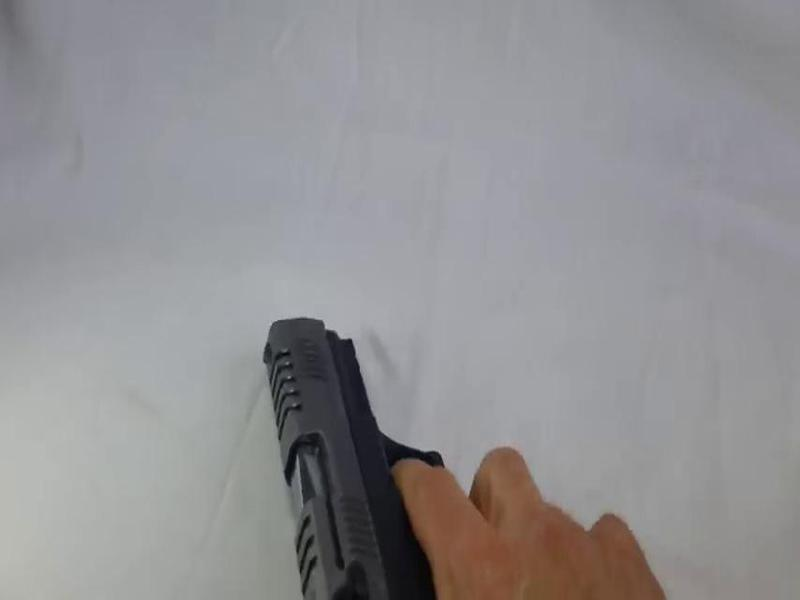Pistola: (203, 275, 505, 600)
